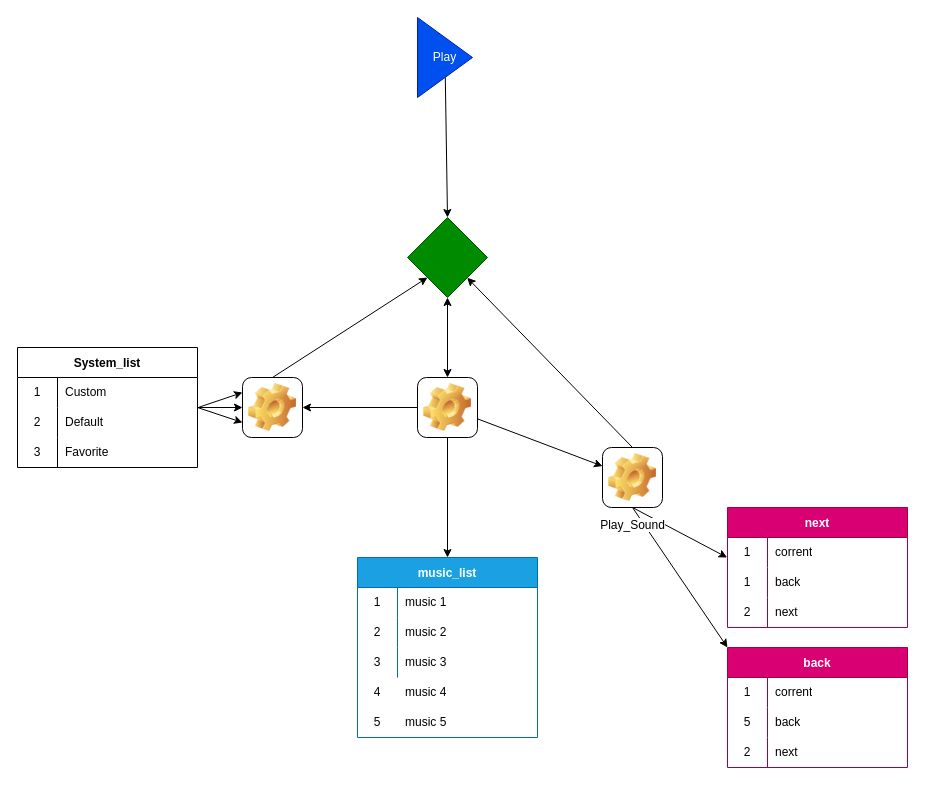
Image size: 925x785. Some labels were removed from this diagram. The shapes that lost their labels are listed below. From the top down, each one's centre as x and y in pixels, then its label:
At point (447, 257): "System".
At point (272, 407): "Player_List".
At point (447, 407): "Read_List".
